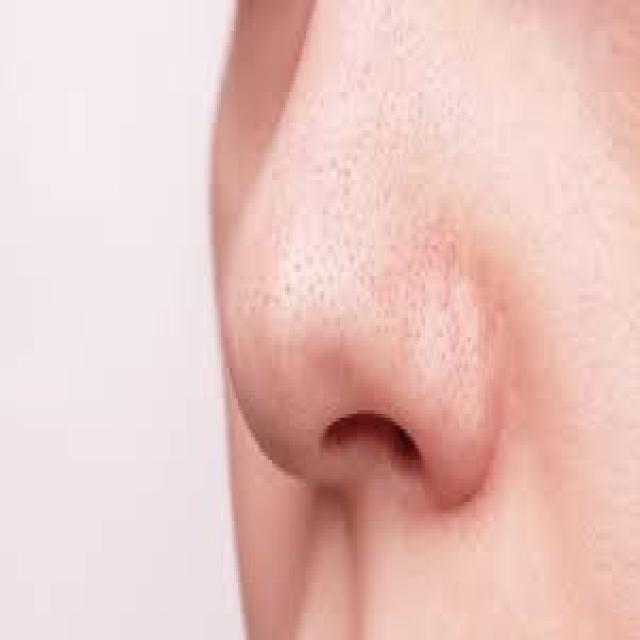Englarged-Pores: (231, 56, 602, 435)
